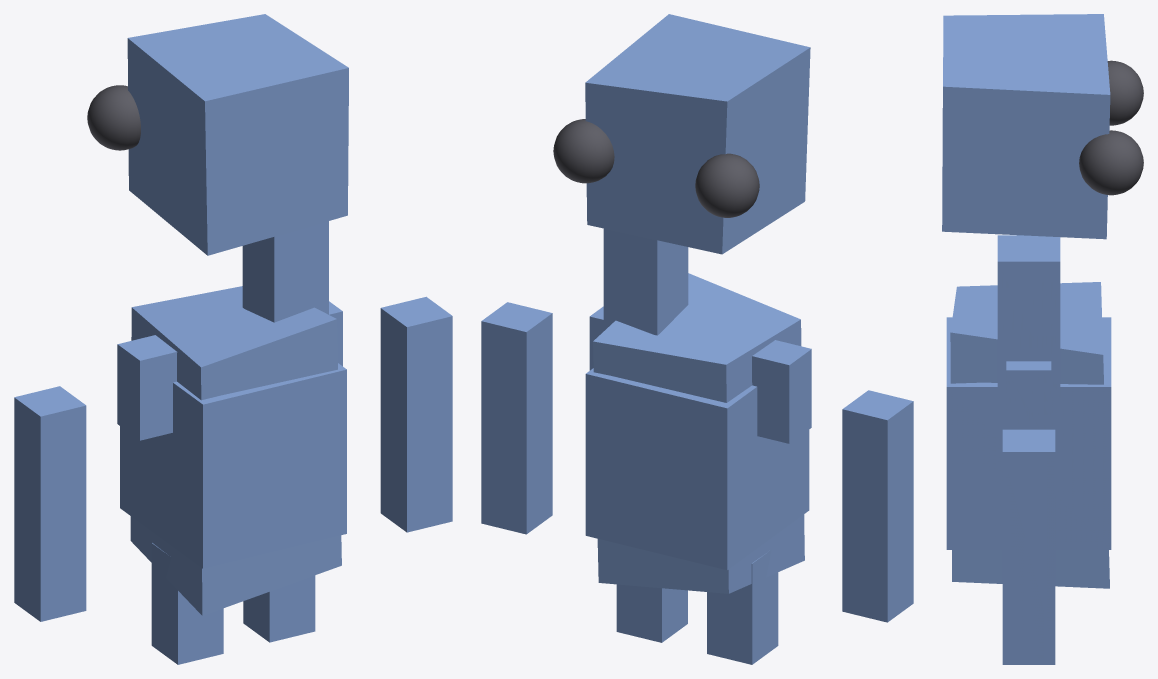
Rendered from clay_like_thumbsup.glb.
The picture shows the model from 3 angles, left to right: view 1: azimuth 30°, elevation 25°; view 2: azimuth 150°, elevation 25°; view 3: azimuth 270°, elevation 25°; orthographic projection.
Visible parts, largest first — view 1: finger.003; view 2: finger.003; view 3: finger.003.
Part boxes in pixels (x1=…): finger.003: x1=14, y1=14, x2=452, y2=664; finger.003: x1=481, y1=14, x2=913, y2=664; finger.003: x1=942, y1=14, x2=1143, y2=664.
Bounding box in the file's own units: 1.89 × 2.58 × 0.8077.
